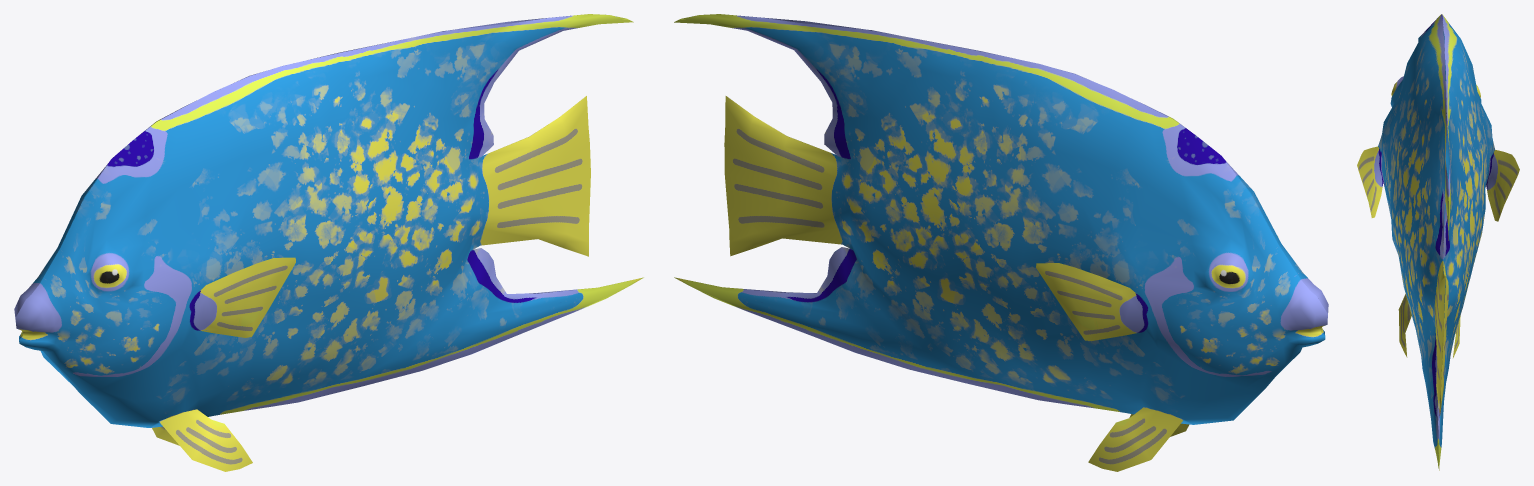
The model's file is queenAngelfish00.fbx.
3 views of the same model, side by side, from view 1: azimuth 30°, elevation 25°; view 2: azimuth 150°, elevation 25°; view 3: azimuth 270°, elevation 25° (orthographic). The views are drawn at different scales.
Visible parts, largest first — view 1: queenAngelfish_final; view 2: queenAngelfish_final; view 3: queenAngelfish_final.
Part boxes in pixels (bbox=[...]): queenAngelfish_final: bbox=[14, 14, 643, 471]; queenAngelfish_final: bbox=[674, 14, 1328, 471]; queenAngelfish_final: bbox=[1357, 14, 1519, 470].
Bounding box in the file's own units: 0.4838 × 0.2724 × 0.1204.
1 material, 1 textured.
